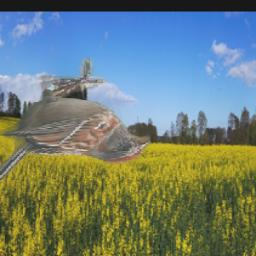Sparrow: (0, 59, 150, 191)
